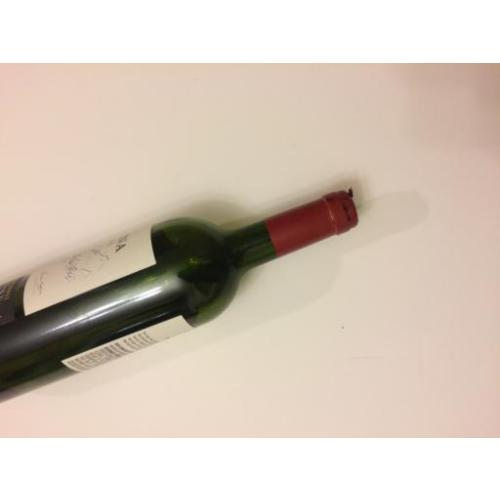glass: (0, 190, 356, 400)
